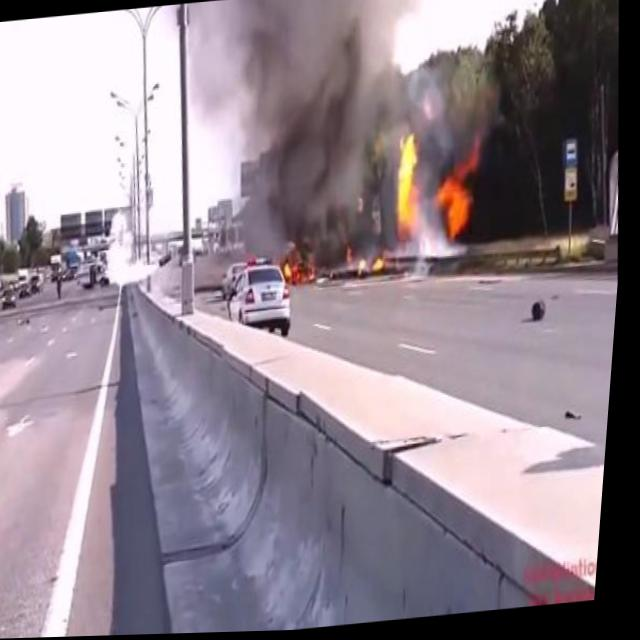fire: (429, 143, 495, 243), (390, 130, 431, 238), (287, 255, 326, 291), (358, 251, 395, 281)
